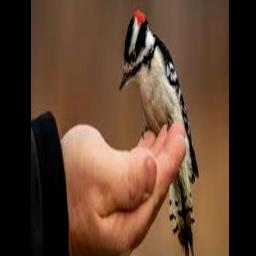Woodpecker: (119, 7, 199, 256)
